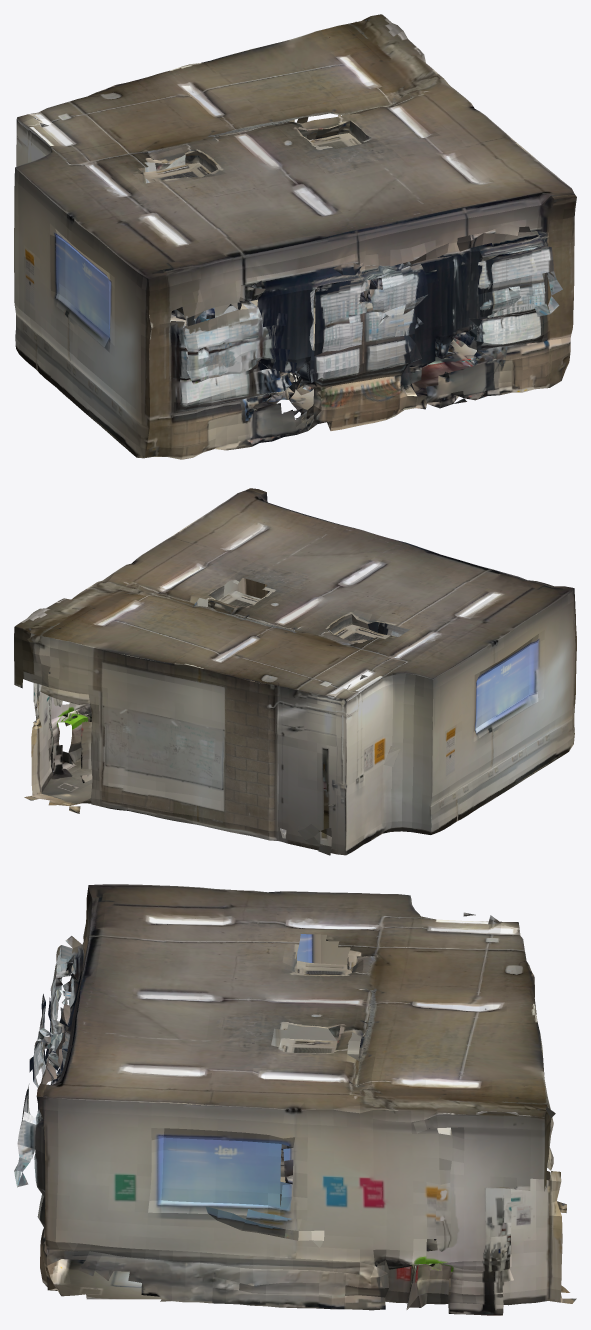
3 renders of one model, top to bottom at view 1: azimuth 30°, elevation 25°; view 2: azimuth 150°, elevation 25°; view 3: azimuth 270°, elevation 25°, orthographic. The views are drawn at different scales.
Visible parts, largest first — view 1: 311-IM; view 2: 311-IM; view 3: 311-IM.
Boxes of the visible parts, bbox=[...] form: 311-IM: bbox=[14, 14, 576, 459]; 311-IM: bbox=[14, 488, 576, 855]; 311-IM: bbox=[14, 884, 576, 1315].
Bounding box in the file's own units: 798 × 346 × 804.
1 material, 1 textured.
